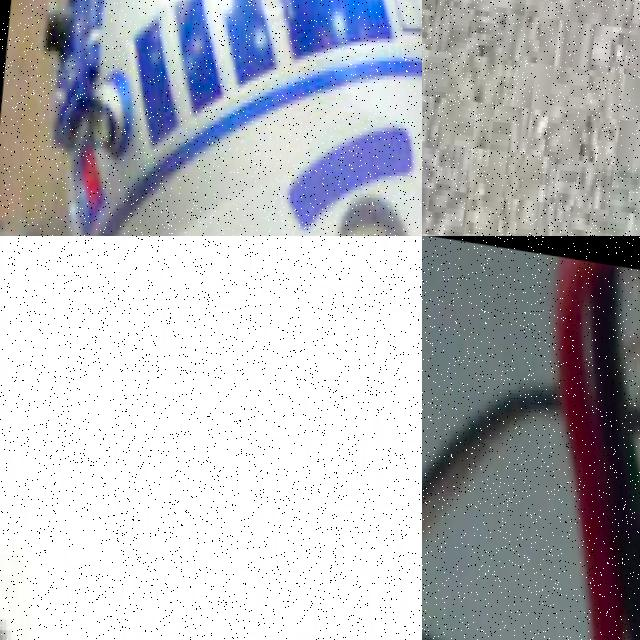drone: (0, 236, 422, 640), (0, 0, 422, 236), (422, 236, 640, 640)
